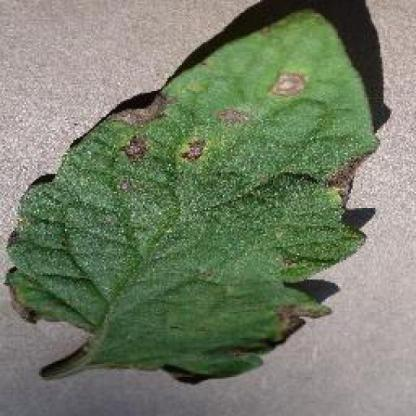Tomato_Blight: (7, 11, 374, 373)
